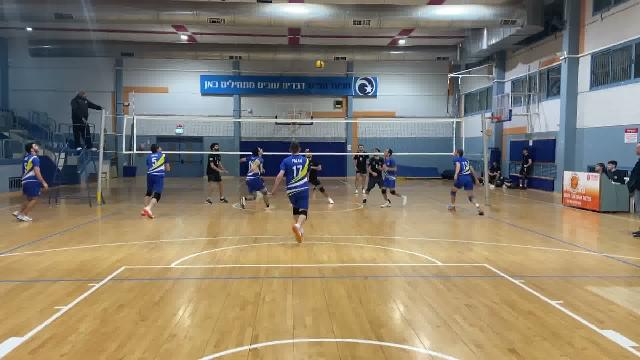ball: (315, 57, 326, 72)
